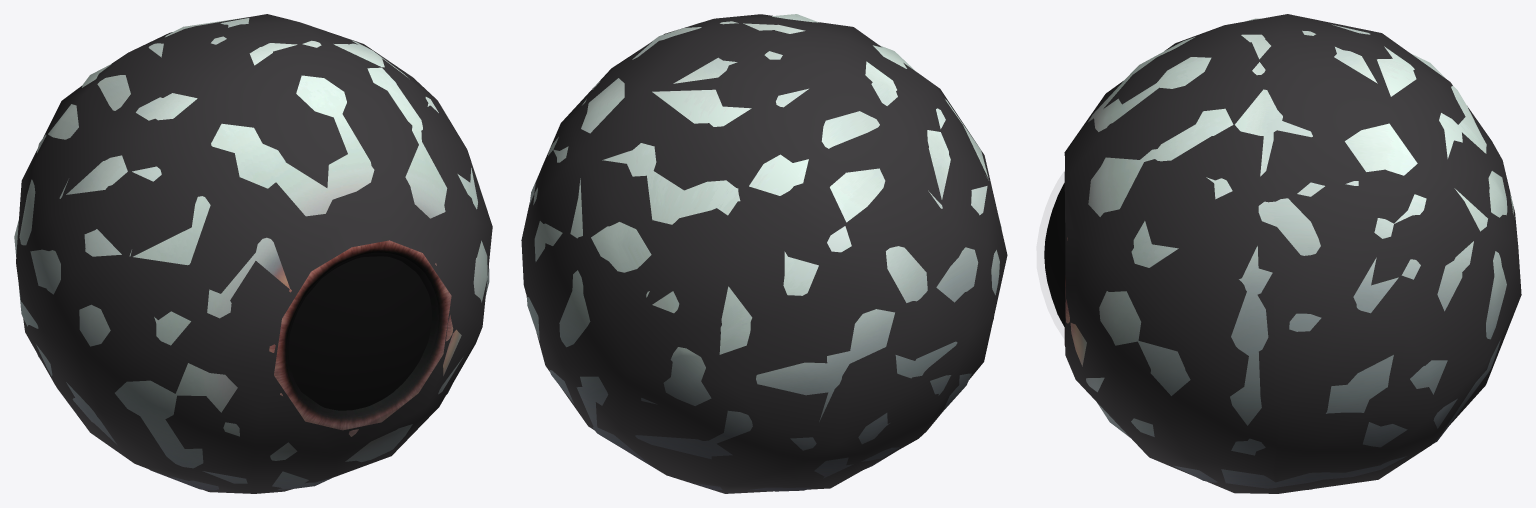
The picture shows the model from 3 angles, left to right: view 1: azimuth 30°, elevation 25°; view 2: azimuth 150°, elevation 25°; view 3: azimuth 270°, elevation 25°; orthographic projection.
Visible parts, largest first — view 1: Cornea_V5, Sclera_V5, Pupil_V5; view 2: Cornea_V5, Sclera_V5; view 3: Cornea_V5, Sclera_V5, Pupil_V5.
Part boxes in pixels (bbox=[...]): Cornea_V5: bbox=[16, 14, 492, 493]; Sclera_V5: bbox=[14, 17, 489, 490]; Pupil_V5: bbox=[288, 256, 431, 410]; Cornea_V5: bbox=[521, 14, 1007, 493]; Sclera_V5: bbox=[526, 14, 1001, 491]; Cornea_V5: bbox=[1064, 14, 1521, 493]; Sclera_V5: bbox=[1064, 18, 1514, 489]; Pupil_V5: bbox=[1044, 183, 1065, 327].
Bounding box in the file's own units: 0.3048 × 0.3044 × 0.309.
Materials: 4 (4 with a texture image).
